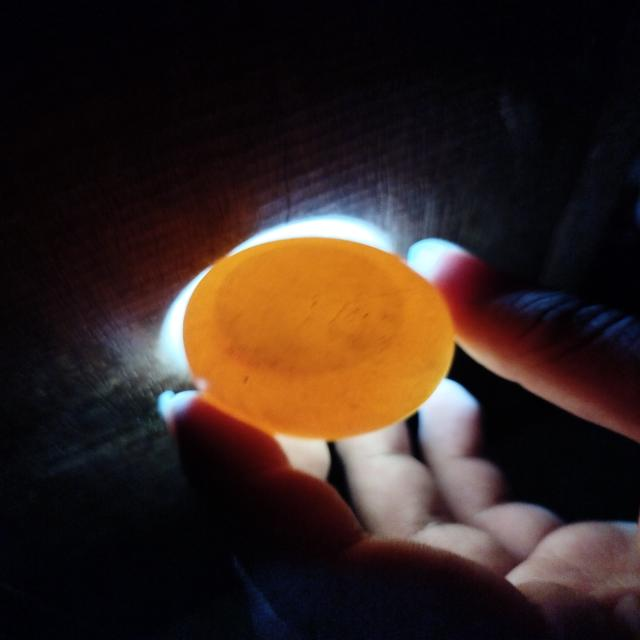Camara de Ar: (218, 246, 407, 376)
